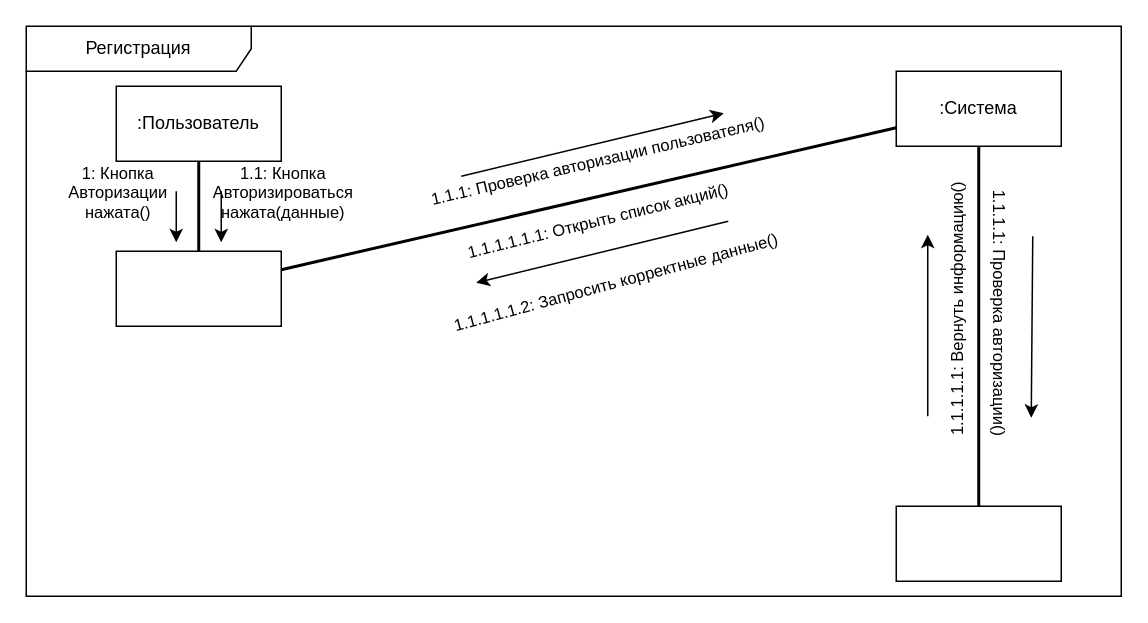
Image size: 1148x623. Some labels were removed from this diagram. Each missing label, with the centre of its shape:
":Интерфейс" goes at (198,288).
":Сервер" goes at (978,543).
